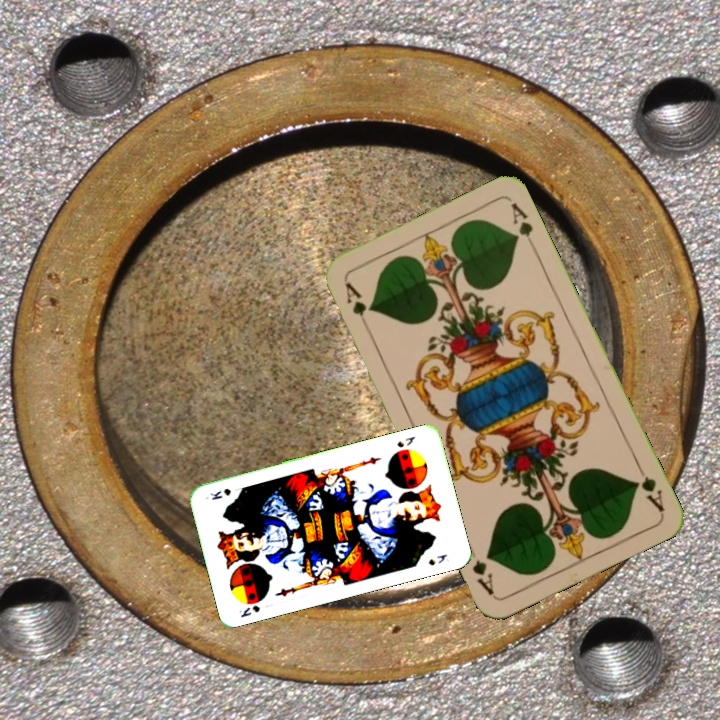GA: (630, 459, 667, 514), (341, 278, 374, 334)
SK: (235, 601, 262, 620), (393, 432, 418, 450)
